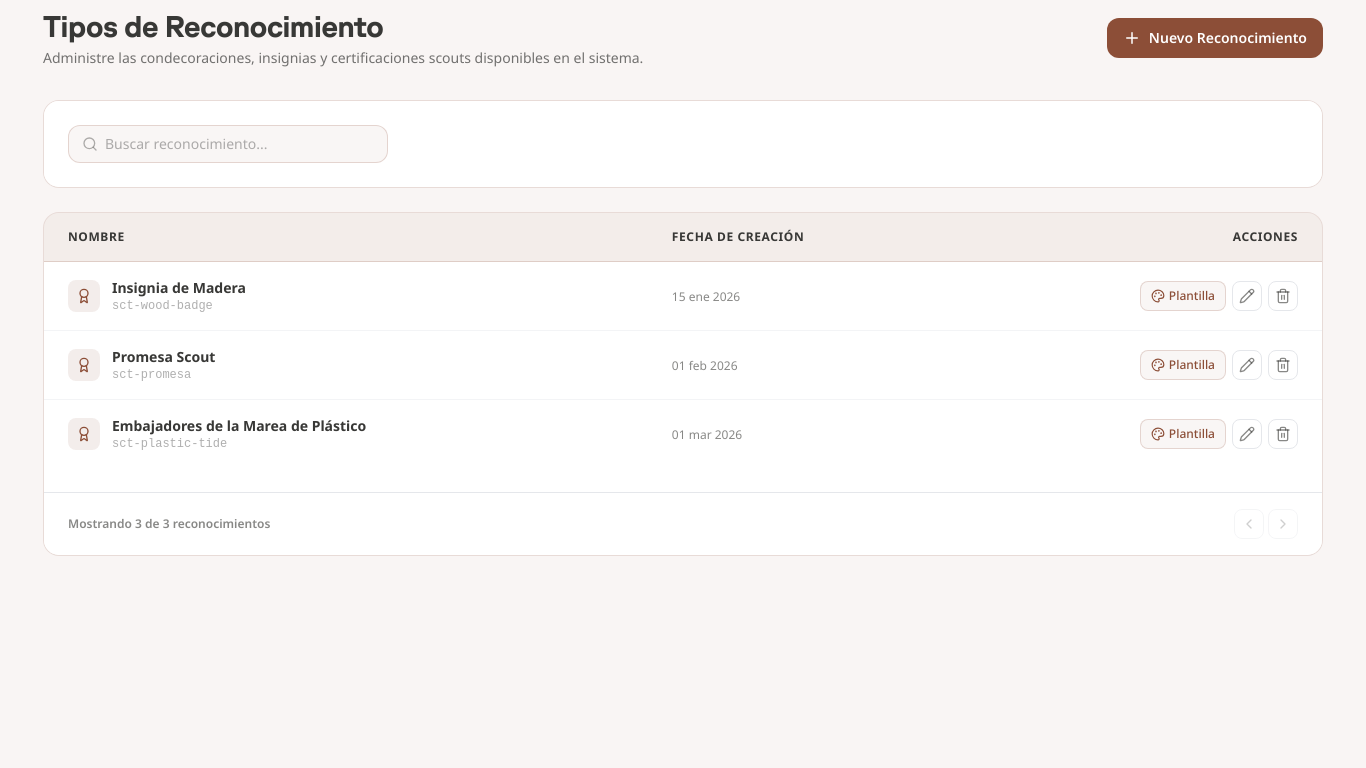
Test: RecognitionCatalog component › opens edit modal and updates an existing recognition
Expected: the text "Insignia de Madera" is shown, x1=112 y1=278 x2=246 y2=298
Click the button named "Editar Insignia de Madera": click(1247, 296) x1=1232 y1=281 x2=1262 y2=311
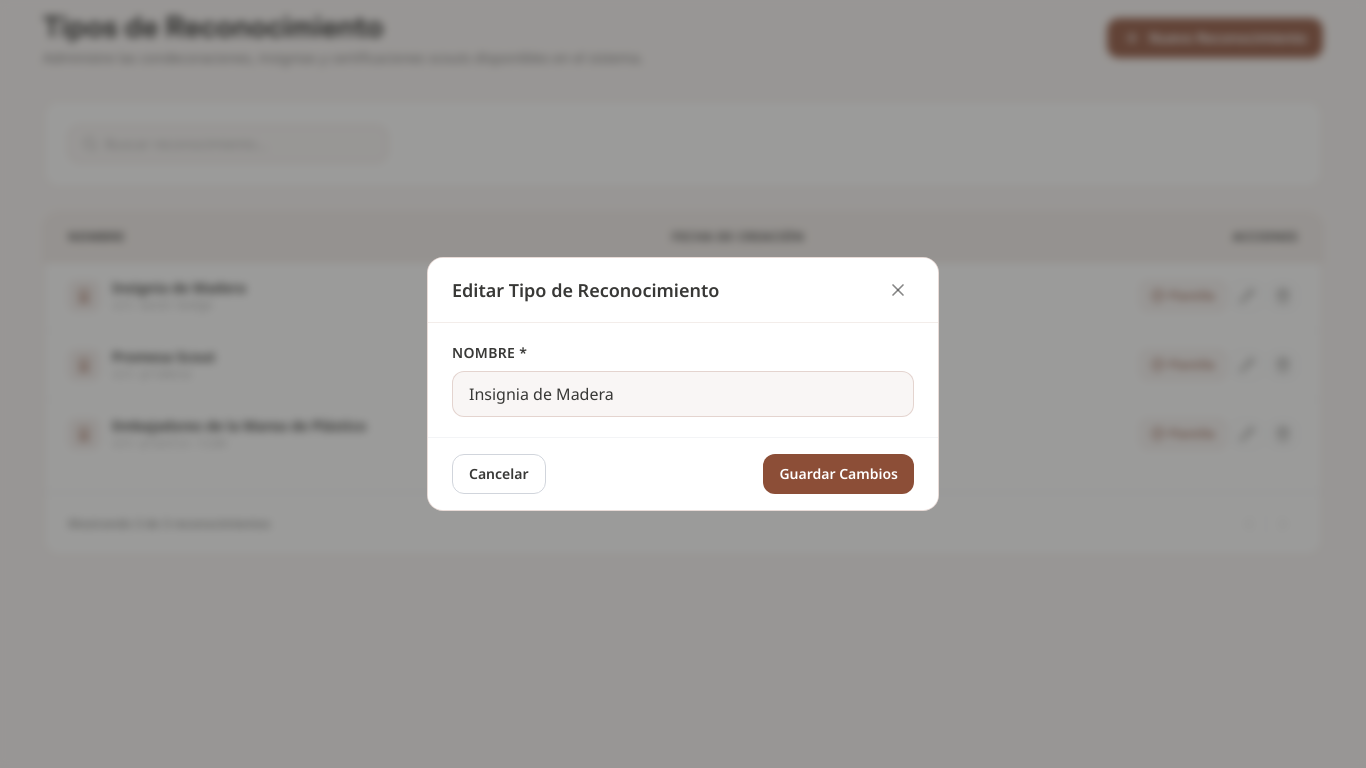
Expected: the text "Editar Tipo de Reconocimiento" is shown, x1=452 y1=276 x2=719 y2=304
Replace the text in the field labelled "Nombre *" with "Insignia de Madera (Avanzada)": (683, 394) x1=452 y1=371 x2=914 y2=417
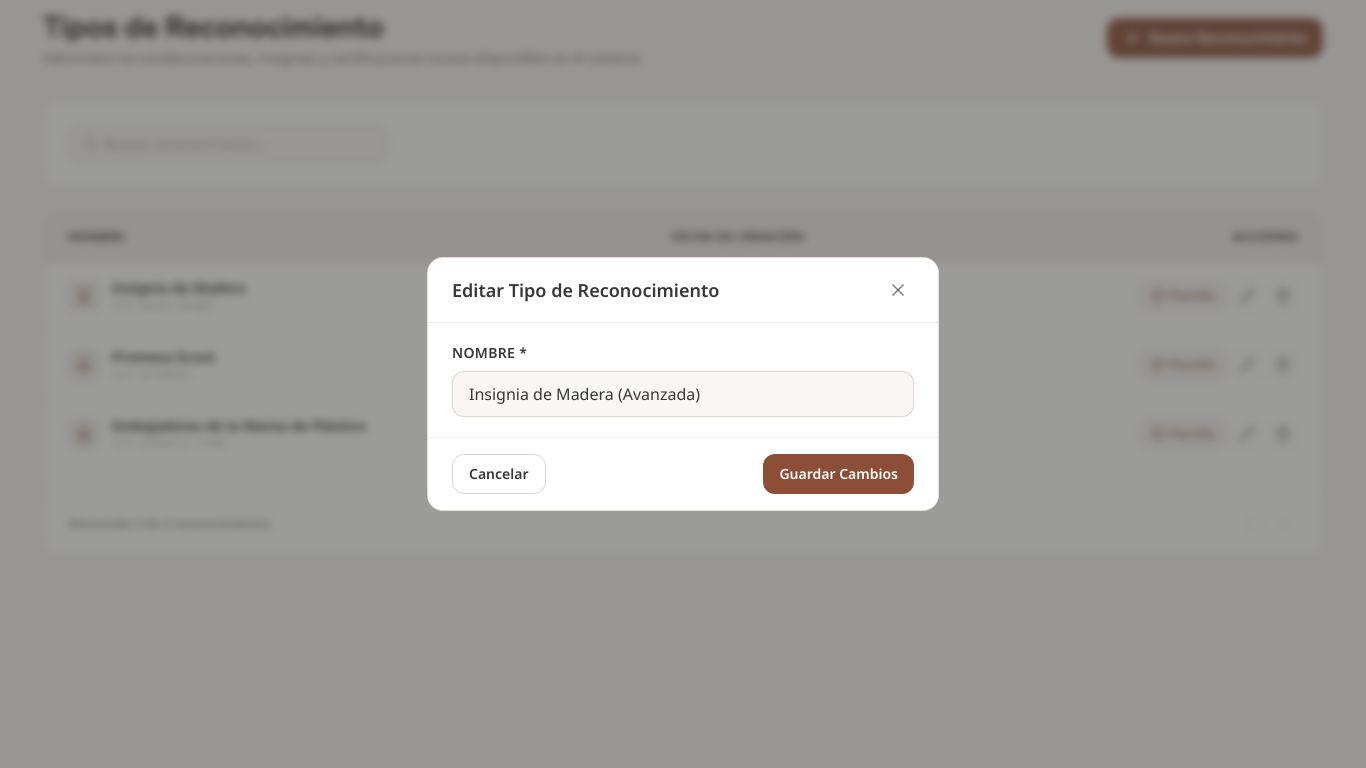
Click the button "Guardar Cambios": click(839, 474) x1=763 y1=454 x2=914 y2=494
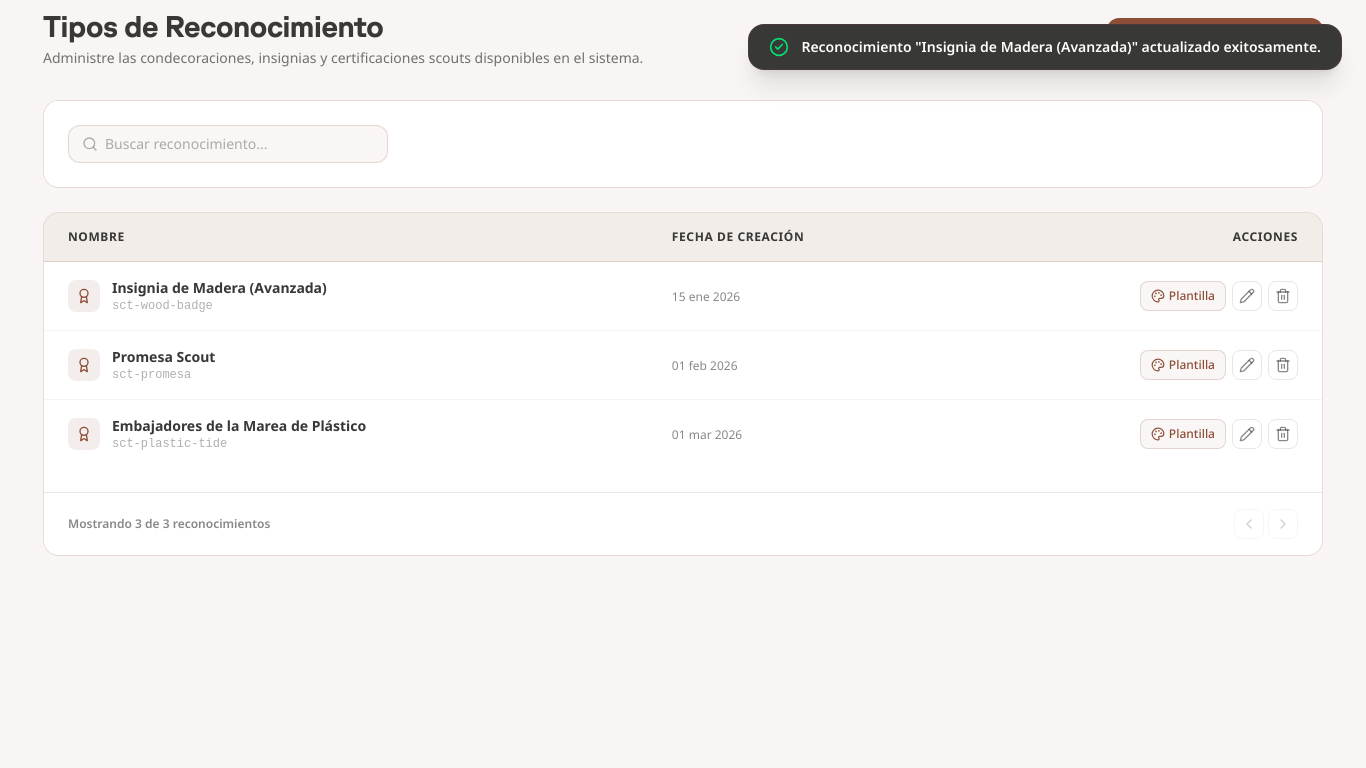
Expected: the text "Insignia de Madera (Avanzada)" is shown, x1=112 y1=278 x2=327 y2=298
Expected: the text "actualizado exitosamente" is shown, x1=801 y1=37 x2=1321 y2=56
